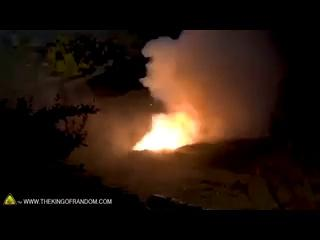Fire: (142, 104, 192, 147)
